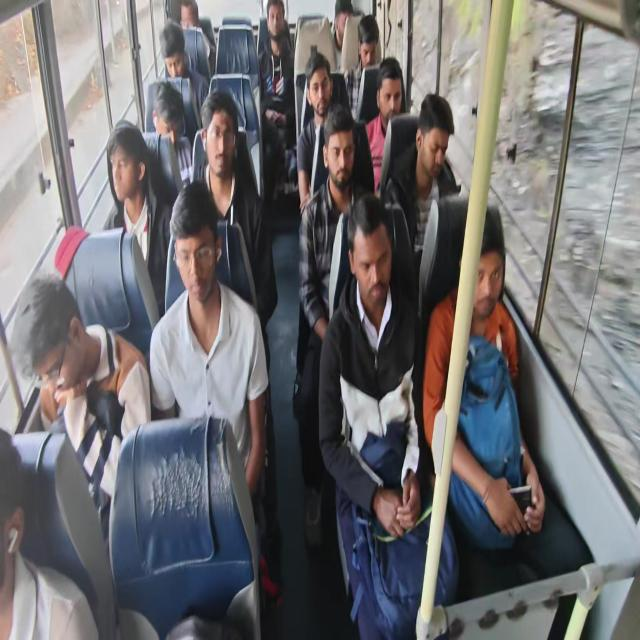person: (22, 293, 90, 395), (349, 204, 396, 334), (460, 215, 510, 313), (199, 100, 250, 182), (170, 198, 209, 302), (144, 89, 191, 152), (106, 132, 140, 202), (158, 16, 190, 83), (328, 121, 356, 187), (418, 112, 446, 178), (302, 62, 334, 118), (376, 66, 406, 123), (328, 0, 352, 49), (175, 0, 202, 36), (355, 36, 377, 79), (267, 0, 288, 43)
